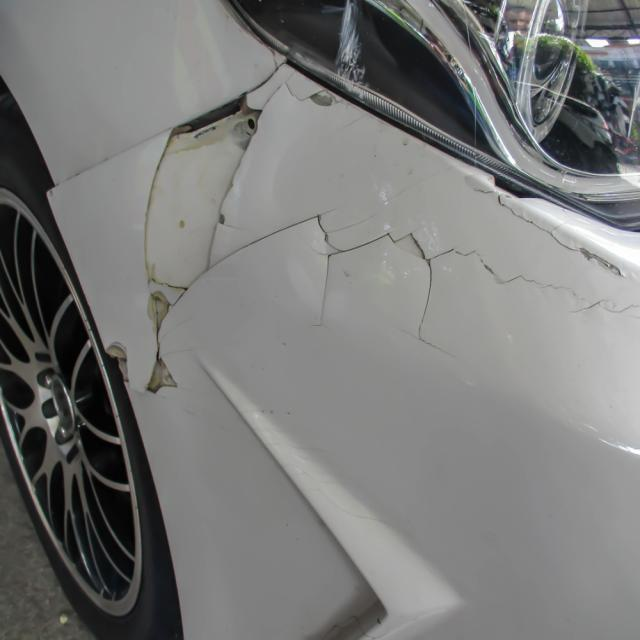crack: (107, 83, 640, 396), (476, 180, 624, 276)
